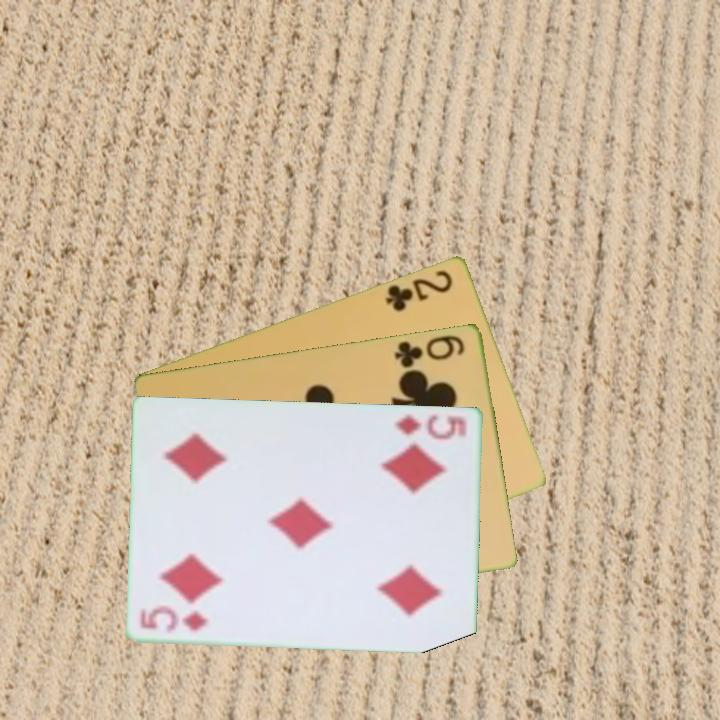2c: (382, 266, 456, 314)
5d: (391, 410, 471, 442), (137, 605, 213, 636)
6c: (391, 331, 468, 371)
